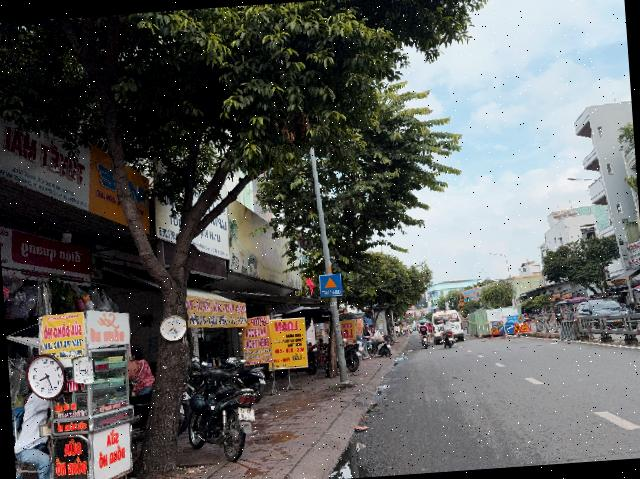khu-vuc-cho-phia-truoc: (318, 273, 342, 297)
